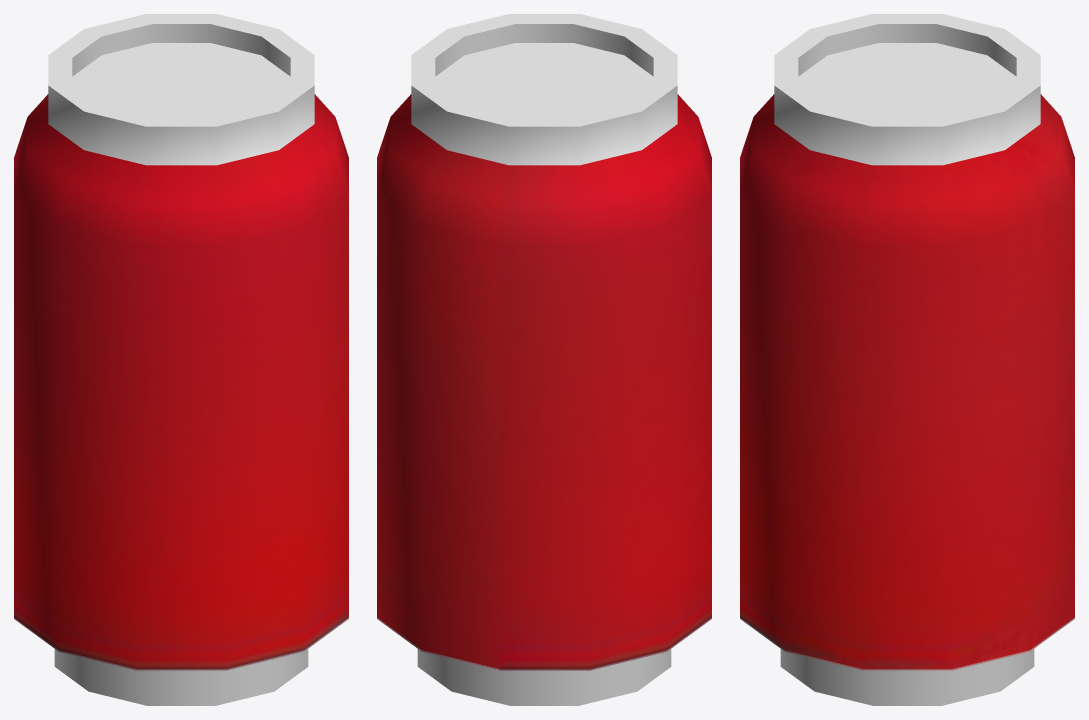
File: Drinks.fbx
3 views of the same model, side by side, from view 1: azimuth 30°, elevation 25°; view 2: azimuth 150°, elevation 25°; view 3: azimuth 270°, elevation 25° (orthographic).
Visible parts, largest first — view 1: Object32328.083; view 2: Object32328.083; view 3: Object32328.083.
Boxes of the visible parts, x1,y1,x2,y2 form: Object32328.083: (14, 14, 348, 705); Object32328.083: (377, 14, 711, 705); Object32328.083: (740, 14, 1074, 705).
Size of the model in its own units: 8.42 by 16.15 by 8.42.
